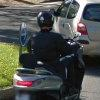Motorcycle: (8, 18, 95, 100)
